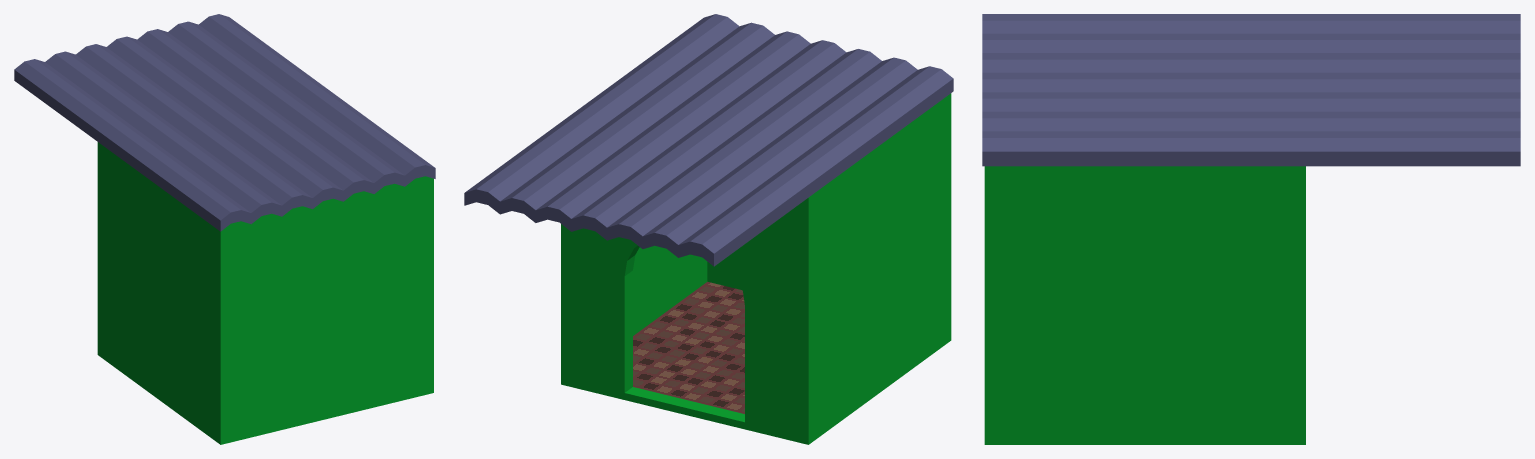
File: Cobertizo.fbx
The picture shows the model from 3 angles, left to right: view 1: azimuth 30°, elevation 25°; view 2: azimuth 150°, elevation 25°; view 3: azimuth 270°, elevation 25°; orthographic projection. The views are drawn at different scales.
Visible parts, largest first — view 1: Cobertizo; view 2: Cobertizo; view 3: Cobertizo.
Part boxes in pixels (box(x1,y1,x2,y2)): Cobertizo: box(14, 14, 435, 444); Cobertizo: box(464, 14, 953, 444); Cobertizo: box(982, 14, 1520, 444).
Bounding box in the file's own units: 2017 × 3352 × 2069.
3 materials, 1 textured.
